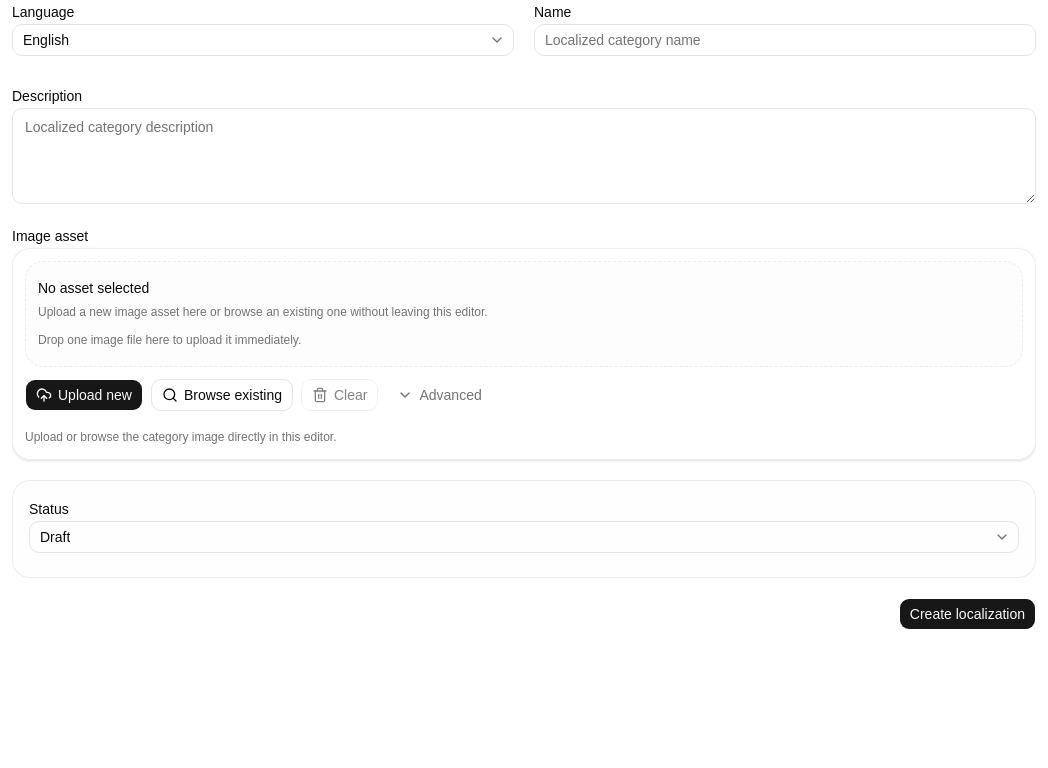
Test: CategoryLocalizationForm › validates required fields before submit
The width and height of the screenshot is (1048, 768).
Step 1. Click the button "Create localization" → (967,614), box top-left (899, 598), bottom-right (1036, 630)
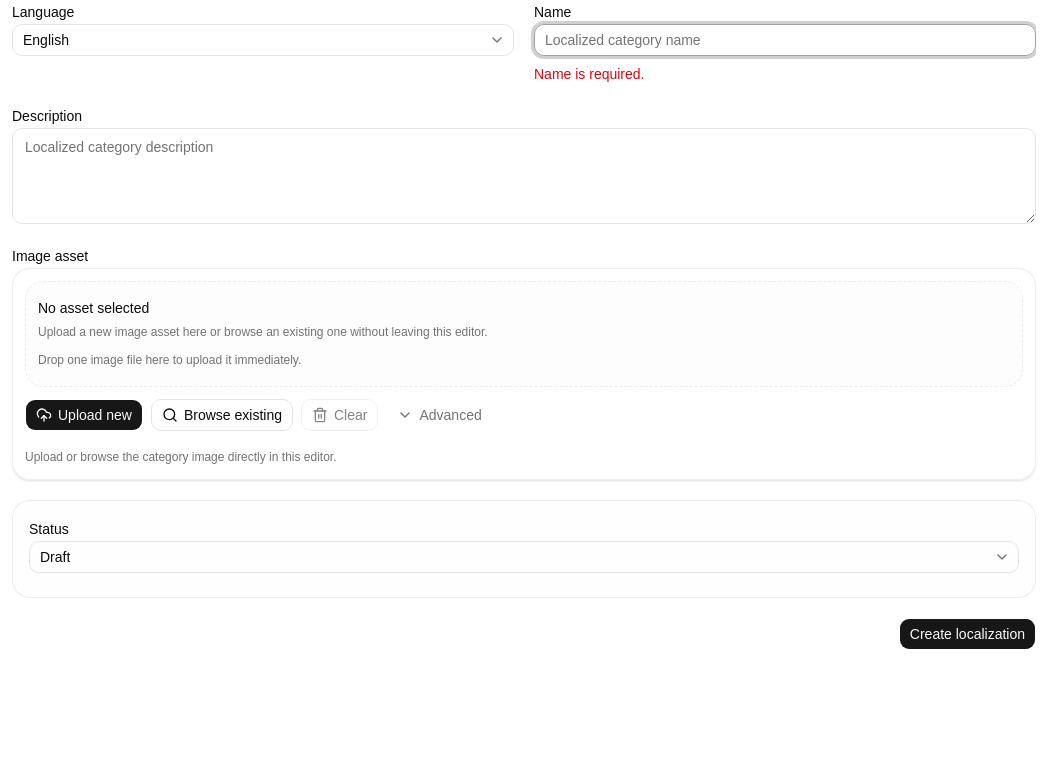
expect the text "Name is required." is shown: met, box top-left (534, 66), bottom-right (644, 82)
